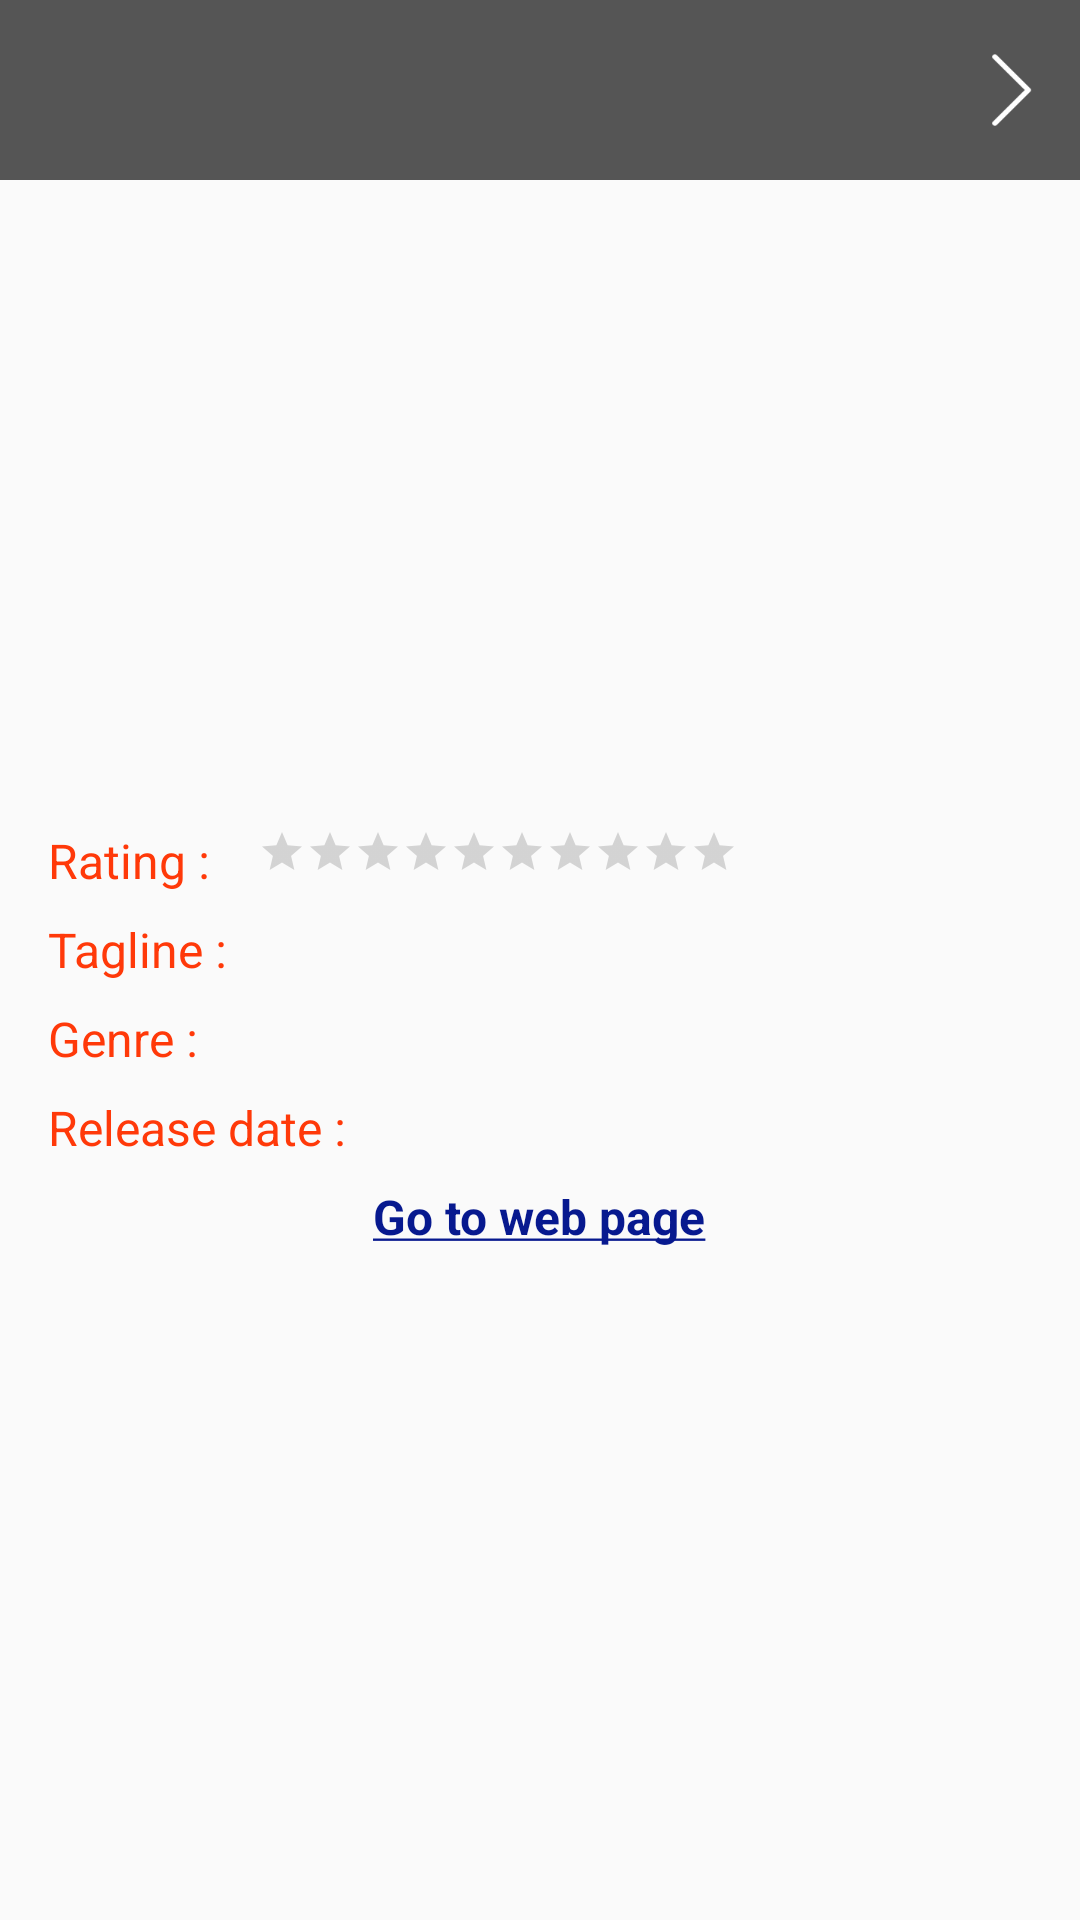

Icons on this 1080px x 1920px Android screen, each with the point to tap as [x,y]:
arrow right: [1011,90]
